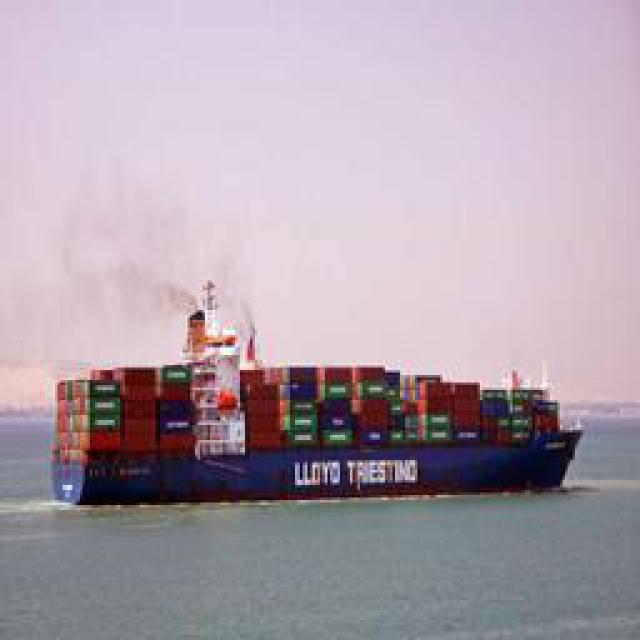Ship: (39, 322, 589, 512)
